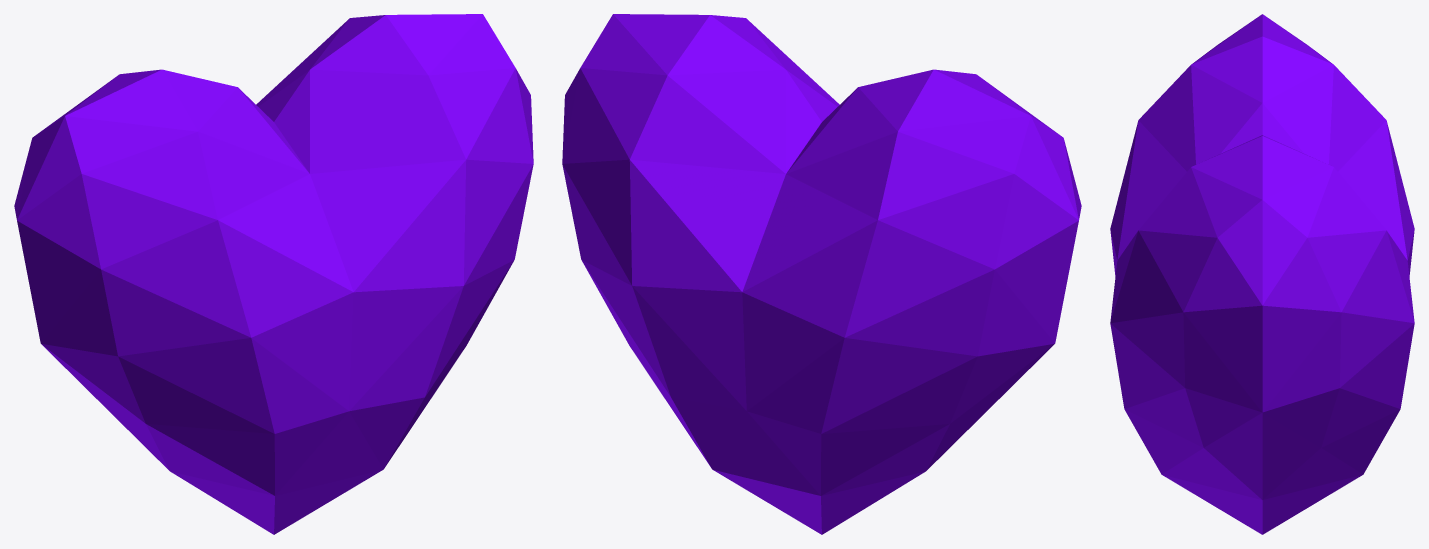
The model's file is corazon.glb.
3 renders of one model, left to right at view 1: azimuth 30°, elevation 25°; view 2: azimuth 150°, elevation 25°; view 3: azimuth 270°, elevation 25°, orthographic. The views are drawn at different scales.
Parts seen in each view (by area): view 1: Corazon; view 2: Corazon; view 3: Corazon.
Part boxes in pixels (<box>): Corazon: <box>14,14,533,534</box>; Corazon: <box>562,14,1081,534</box>; Corazon: <box>1110,14,1414,534</box>.
Bounding box in the file's own units: 2.15 × 1.97 × 1.21.
